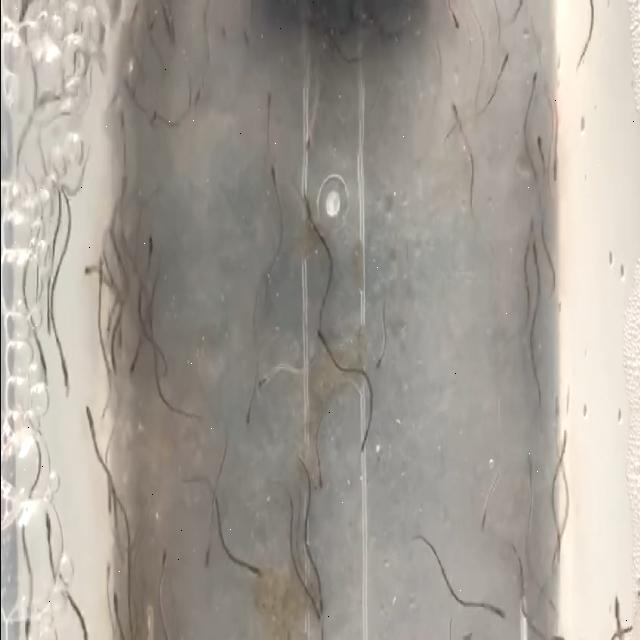active_glass_eel: (526, 64, 542, 119), (42, 507, 60, 555), (36, 292, 51, 346), (103, 336, 121, 381), (18, 600, 38, 640), (474, 496, 493, 538), (56, 358, 74, 402), (610, 592, 626, 640), (82, 404, 99, 449), (300, 194, 322, 228), (14, 0, 34, 37), (546, 142, 562, 188), (154, 543, 171, 585), (494, 45, 510, 89), (36, 359, 50, 408), (124, 337, 142, 375), (552, 525, 566, 573), (316, 456, 332, 498), (298, 125, 314, 167), (525, 210, 540, 254), (315, 578, 329, 624), (547, 396, 563, 436), (447, 0, 463, 39), (485, 596, 507, 624), (506, 538, 522, 576), (255, 361, 271, 399), (102, 552, 116, 594), (82, 258, 106, 282), (310, 324, 330, 352), (145, 225, 160, 262), (308, 592, 324, 626), (524, 445, 534, 499), (371, 336, 385, 374), (445, 87, 460, 122), (200, 536, 213, 576), (264, 159, 278, 194), (264, 86, 276, 126), (252, 554, 268, 584), (218, 22, 235, 50), (438, 117, 456, 143), (240, 402, 254, 434), (240, 24, 254, 56), (110, 592, 121, 628), (534, 130, 544, 168)
